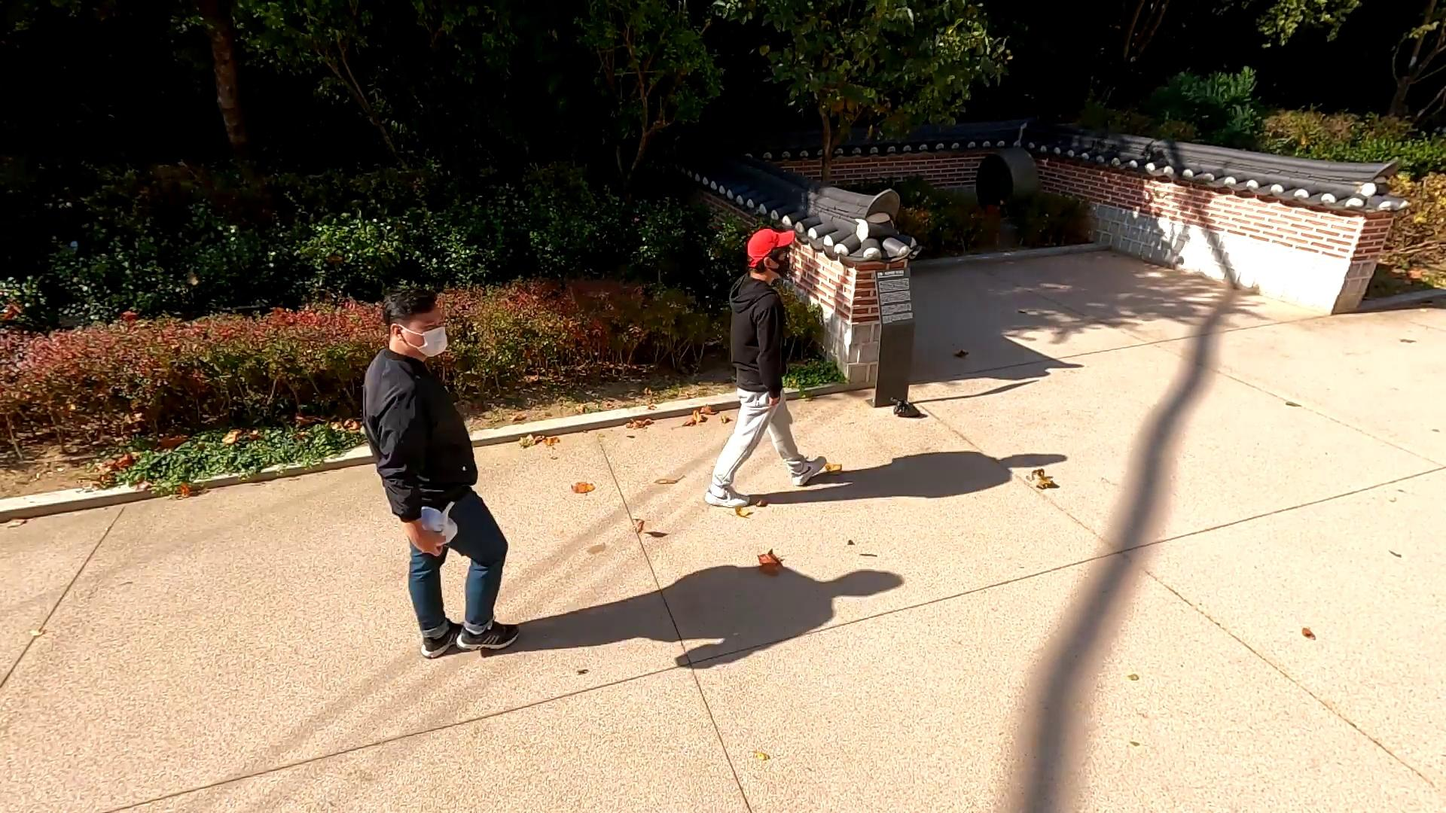person: (410, 471, 582, 813), (707, 228, 832, 510)
